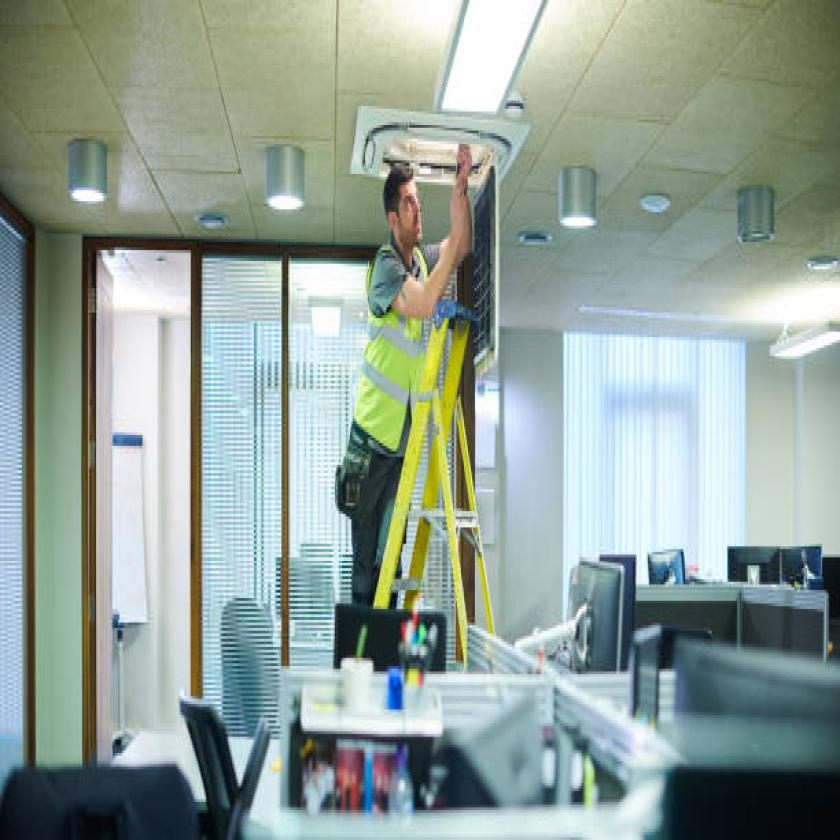Sin_casco: (382, 158, 424, 257)
